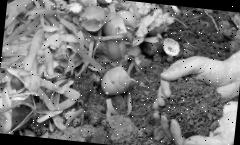organic: (12, 45, 52, 88), (178, 83, 216, 123), (100, 64, 142, 100), (5, 0, 48, 26), (102, 10, 132, 40)
